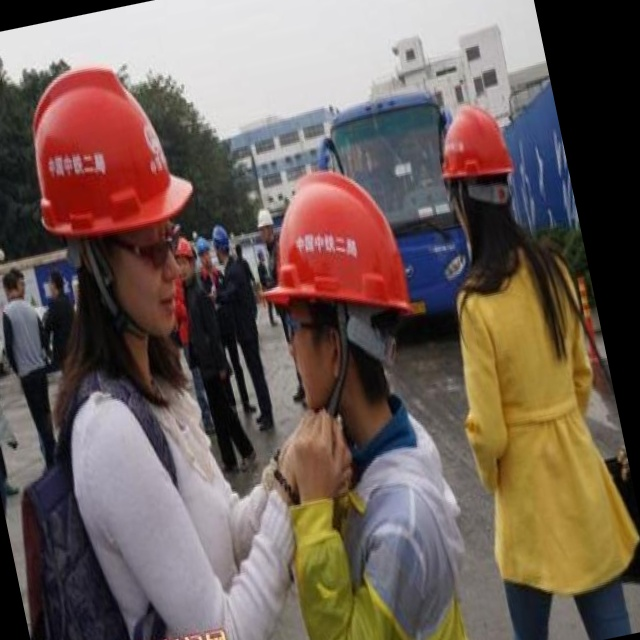Con_Casco: (21, 53, 207, 358), (250, 162, 426, 418)
